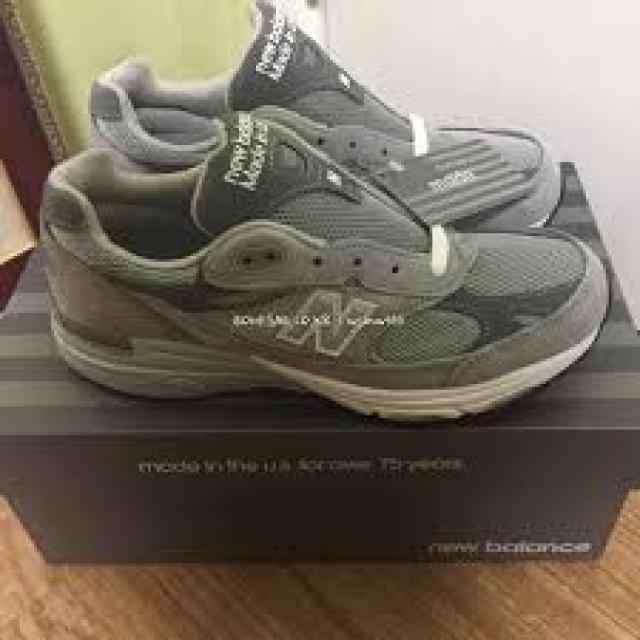shoe: (31, 154, 603, 434), (73, 18, 573, 255)
